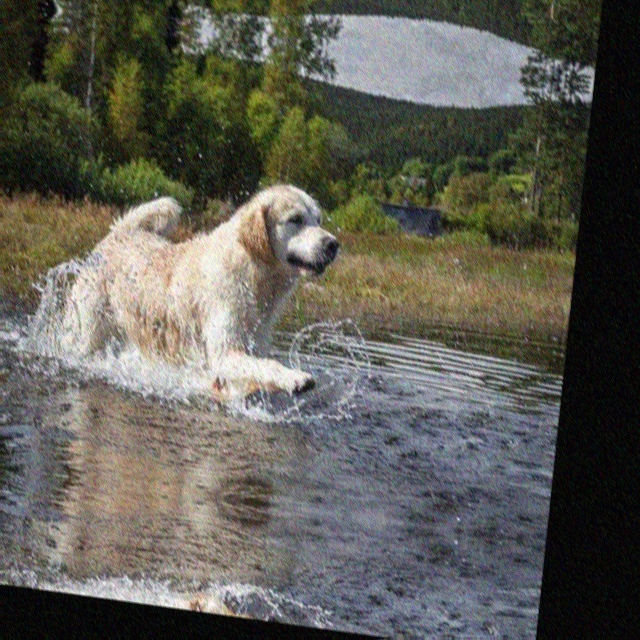dog: (68, 141, 362, 426), (47, 564, 317, 629)
